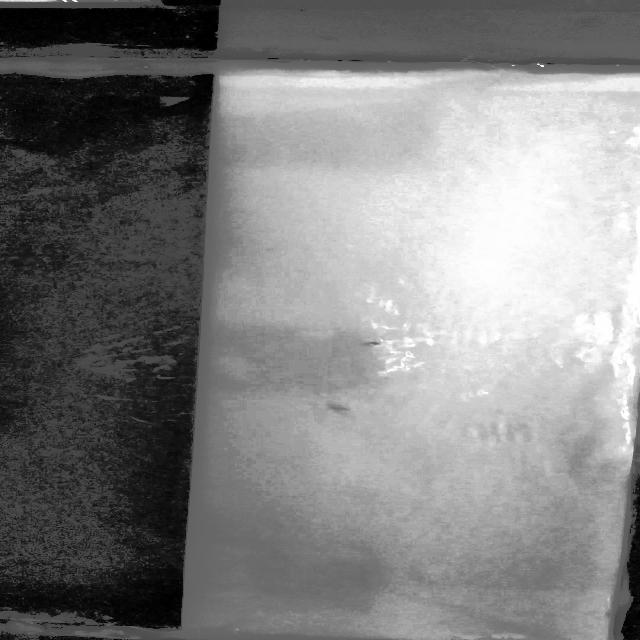shrimp: (344, 338, 393, 354), (317, 400, 359, 412)
